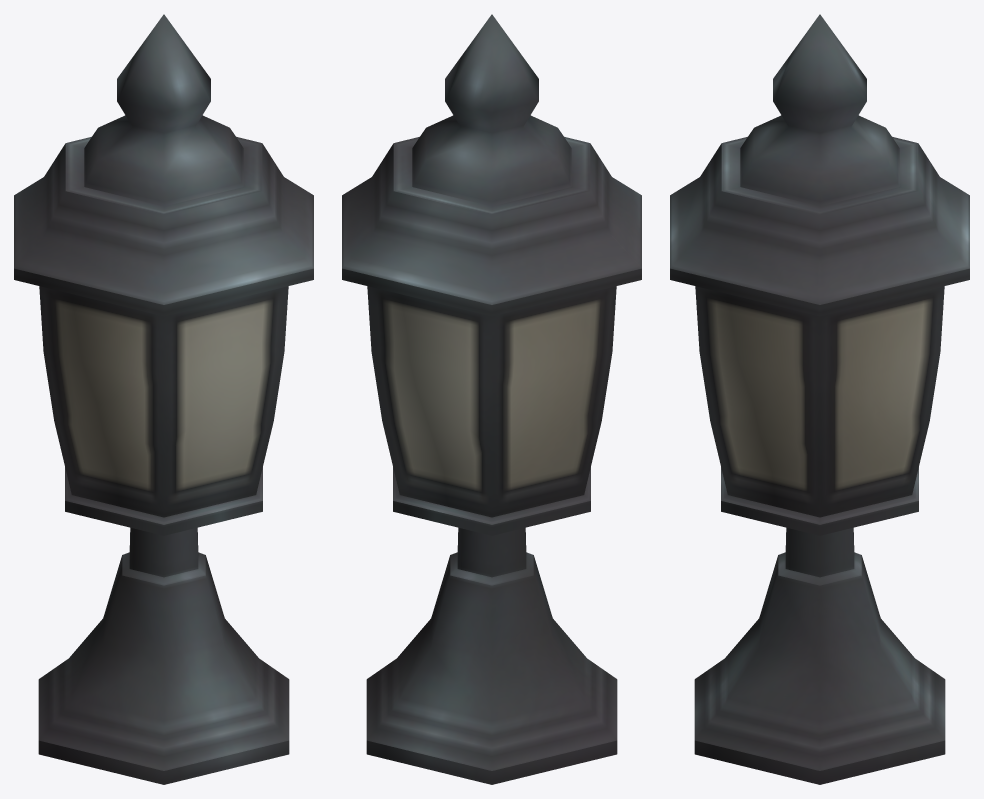
File: scene_luoliante_deng02.FBX
The picture shows the model from 3 angles, left to right: view 1: azimuth 30°, elevation 25°; view 2: azimuth 150°, elevation 25°; view 3: azimuth 270°, elevation 25°; orthographic projection.
Visible parts, largest first — view 1: scene_luoliante_deng02; view 2: scene_luoliante_deng02; view 3: scene_luoliante_deng02.
Boxes of the visible parts, x1,y1,x2,y2 form: scene_luoliante_deng02: (14, 14, 313, 784); scene_luoliante_deng02: (342, 14, 641, 784); scene_luoliante_deng02: (670, 14, 969, 784).
Bounding box in the file's own units: 61.12 × 138 × 52.93.
